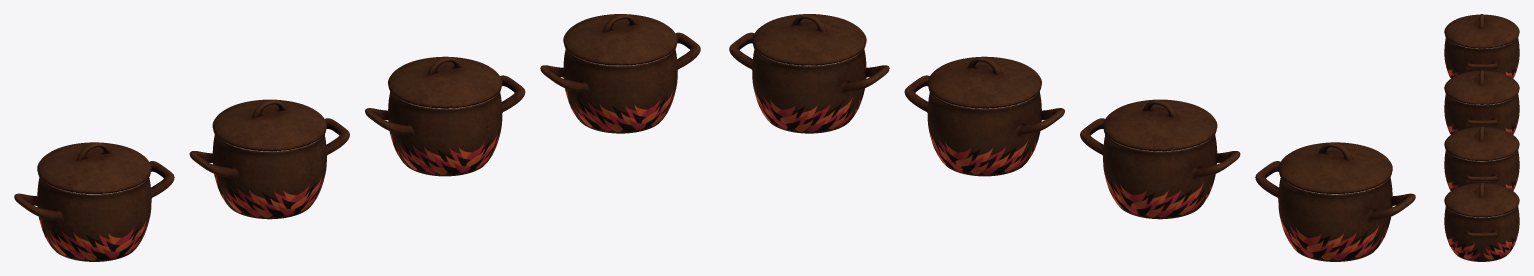
Rendered from stock_pots_row.glb.
3 renders of one model, left to right at view 1: azimuth 30°, elevation 25°; view 2: azimuth 150°, elevation 25°; view 3: azimuth 270°, elevation 25°, orthographic. The views are drawn at different scales.
Parts seen in each view (by area): view 1: pot_enamel_01_base.003, pot_enamel_01_base.002, pot_enamel_01_base, pot_enamel_01_base.001, pot_enamel_01_lid.001, pot_enamel_01_lid.002, pot_enamel_01_lid.003, pot_enamel_01_lid; view 2: pot_enamel_01_base.003, pot_enamel_01_base.002, pot_enamel_01_base, pot_enamel_01_base.001, pot_enamel_01_lid.001, pot_enamel_01_lid.002, pot_enamel_01_lid.003, pot_enamel_01_lid; view 3: pot_enamel_01_base.003, pot_enamel_01_base, pot_enamel_01_base.001, pot_enamel_01_base.002, pot_enamel_01_lid, pot_enamel_01_lid.003, pot_enamel_01_lid.001, pot_enamel_01_lid.002.
Boxes of the visible parts, x1,y1,x2,y2 form: pot_enamel_01_base.003: (540,32,700,133); pot_enamel_01_base.002: (365,75,525,176); pot_enamel_01_base: (14,161,174,261); pot_enamel_01_base.001: (189,118,349,219); pot_enamel_01_lid.001: (212,99,326,151); pot_enamel_01_lid.002: (388,56,502,108); pot_enamel_01_lid.003: (563,14,677,65); pot_enamel_01_lid: (37,142,151,193); pot_enamel_01_base.003: (729,32,889,133); pot_enamel_01_base.002: (904,75,1064,176); pot_enamel_01_base: (1255,161,1415,261); pot_enamel_01_base.001: (1080,118,1240,219); pot_enamel_01_lid.001: (1103,99,1217,151); pot_enamel_01_lid.002: (927,56,1041,108); pot_enamel_01_lid.003: (752,14,866,65); pot_enamel_01_lid: (1278,142,1392,193); pot_enamel_01_base.003: (1444,205,1519,261); pot_enamel_01_base: (1444,36,1519,78); pot_enamel_01_base.001: (1444,92,1519,134); pot_enamel_01_base.002: (1444,148,1519,190); pot_enamel_01_lid: (1444,14,1519,48); pot_enamel_01_lid.003: (1444,183,1519,217); pot_enamel_01_lid.001: (1444,70,1519,104); pot_enamel_01_lid.002: (1444,126,1519,160).
Size of the model in its own units: 1.3 by 0.1898 by 0.1922.
Materials: 4 (4 with a texture image).
